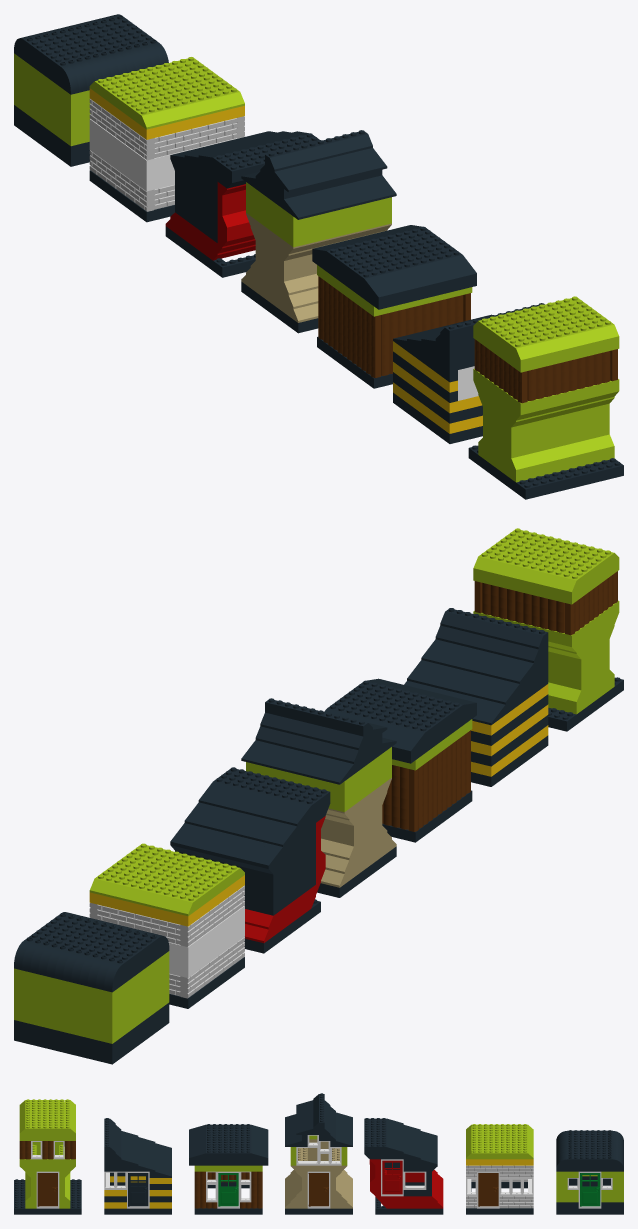
File: 01extruded-lod0.fbx
The picture shows the model from 3 angles, top to bottom: view 1: azimuth 30°, elevation 25°; view 2: azimuth 150°, elevation 25°; view 3: azimuth 270°, elevation 25°; orthographic projection. The views are drawn at different scales.
Visible parts, largest first — view 1: Material_26, Material_119, Material_192, Material_5, Material_208, Material_24, Material_1, Material_21; view 2: Material_26, Material_119, Material_192, Material_5, Material_208, Material_24, Material_1, Material_21; view 3: Material_26, Material_119, Material_1, Material_192, Material_5, Material_21, Material_24, Material_208, Material_28.
Boxes of the visible parts, x1,y1,x2,y2 form: Material_26: (14, 14, 623, 499); Material_119: (14, 53, 619, 482); Material_192: (318, 276, 617, 403); Material_5: (241, 213, 391, 322); Material_208: (89, 99, 244, 211); Material_24: (89, 88, 482, 433); Material_1: (89, 119, 478, 400); Material_21: (165, 182, 255, 260); Material_26: (14, 608, 623, 1064); Material_119: (14, 528, 619, 1043); Material_192: (382, 571, 617, 831); Material_5: (321, 778, 396, 887); Material_208: (89, 885, 244, 998); Material_24: (89, 684, 548, 926); Material_1: (168, 905, 244, 977); Material_21: (245, 816, 325, 943); Material_26: (14, 1093, 623, 1214); Material_119: (19, 1099, 623, 1208); Material_1: (31, 1135, 612, 1208); Material_192: (19, 1141, 498, 1208); Material_5: (285, 1139, 352, 1208); Material_21: (369, 1159, 443, 1208); Material_24: (104, 1159, 533, 1208); Material_208: (466, 1165, 533, 1208); Material_28: (218, 1173, 600, 1206).
Bounding box in the file's own units: 9.83 × 14.58 × 86.4.
